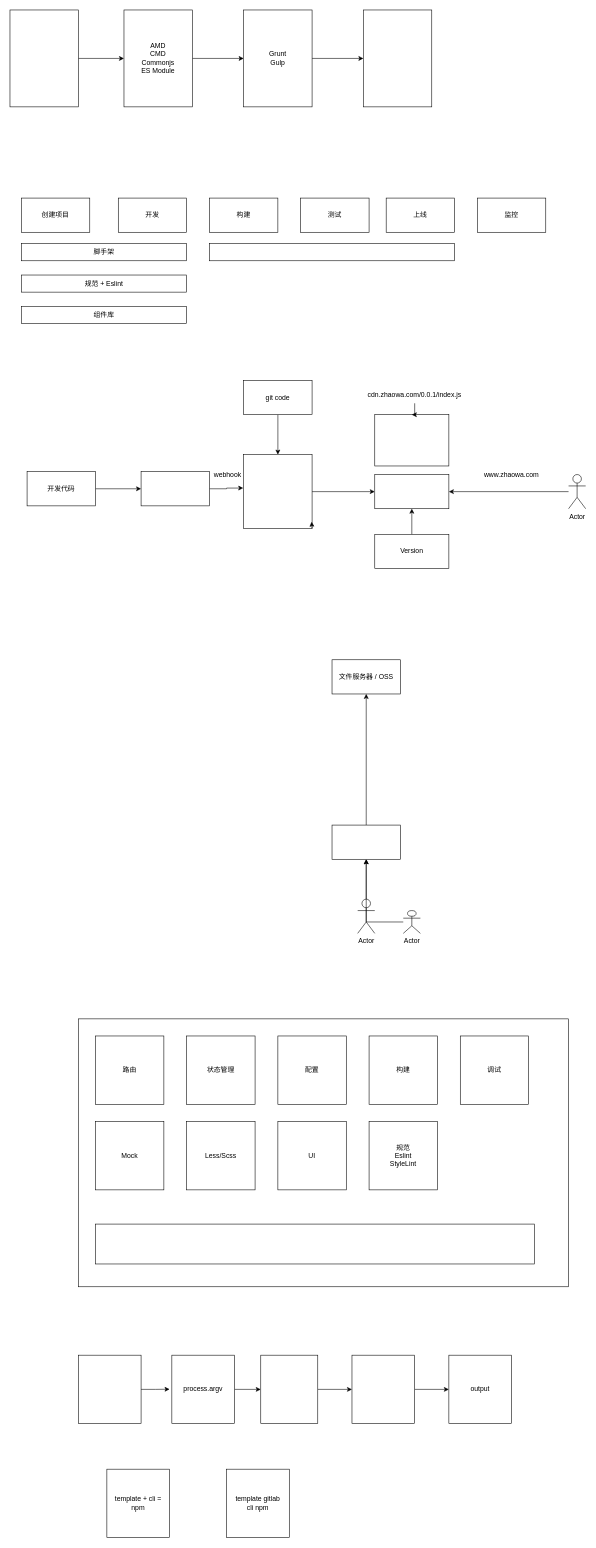
The diagram is 596 pixels wide and 1548 high, and some of its shapes have lost their labels. Here are the shapes that lost their labels. From the top down, the box of each, then its label:
(9, 9, 78, 107): HTML CSS JS
(363, 9, 432, 107): 前后端分离
(209, 243, 455, 261): 持续集成 + 持续部署
(374, 414, 449, 466): JS + CSS/CDN
(141, 471, 209, 506): git push
(243, 454, 312, 529): Docker
(374, 474, 449, 509): HTML
(331, 825, 400, 859): CDN
(95, 1224, 534, 1264): CLI 创建项目 / Git / Test / MR / 构建
(78, 1355, 141, 1424): zhaowa init
(260, 1355, 318, 1424): project-name
(351, 1355, 415, 1424): download
